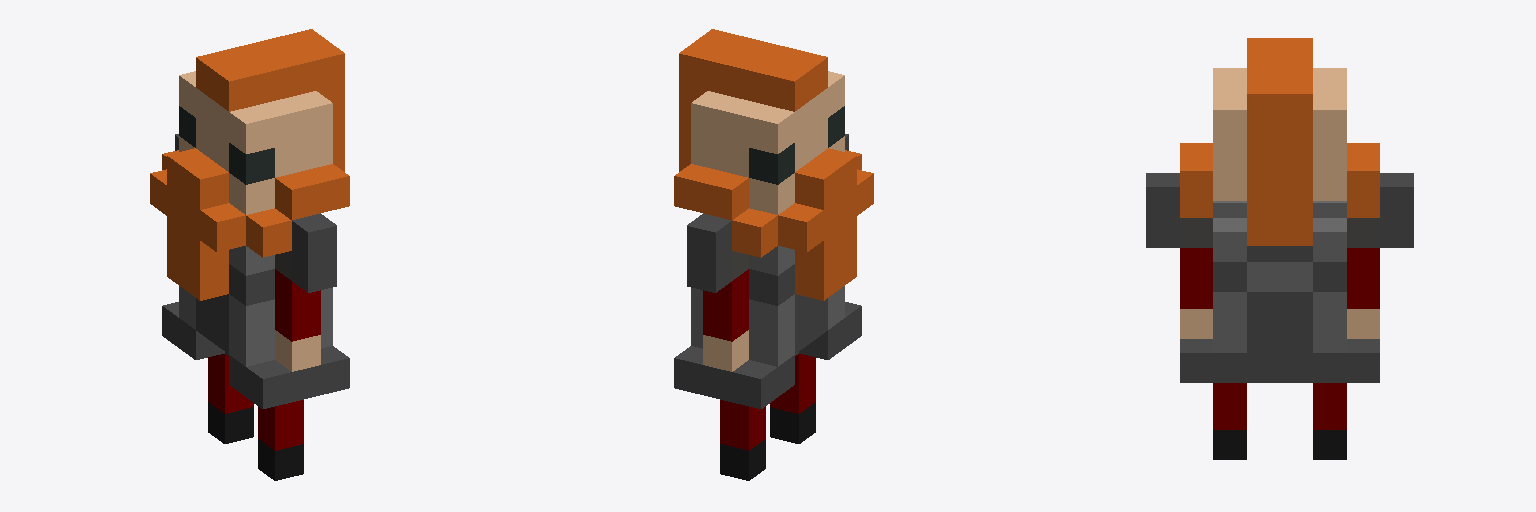
3 views of the same model, side by side, from view 1: azimuth 30°, elevation 25°; view 2: azimuth 150°, elevation 25°; view 3: azimuth 270°, elevation 25° (orthographic).
Parts seen in each view (by area): view 1: human2; view 2: human2; view 3: human2.
Boxes of the visible parts, x1=… form: human2: x1=150, y1=29, x2=349, y2=480; human2: x1=674, y1=29, x2=873, y2=480; human2: x1=1146, y1=38, x2=1413, y2=459.
Bounding box in the file's own units: 0.5 × 1.3 × 0.8.
1 materials, 1 textured.